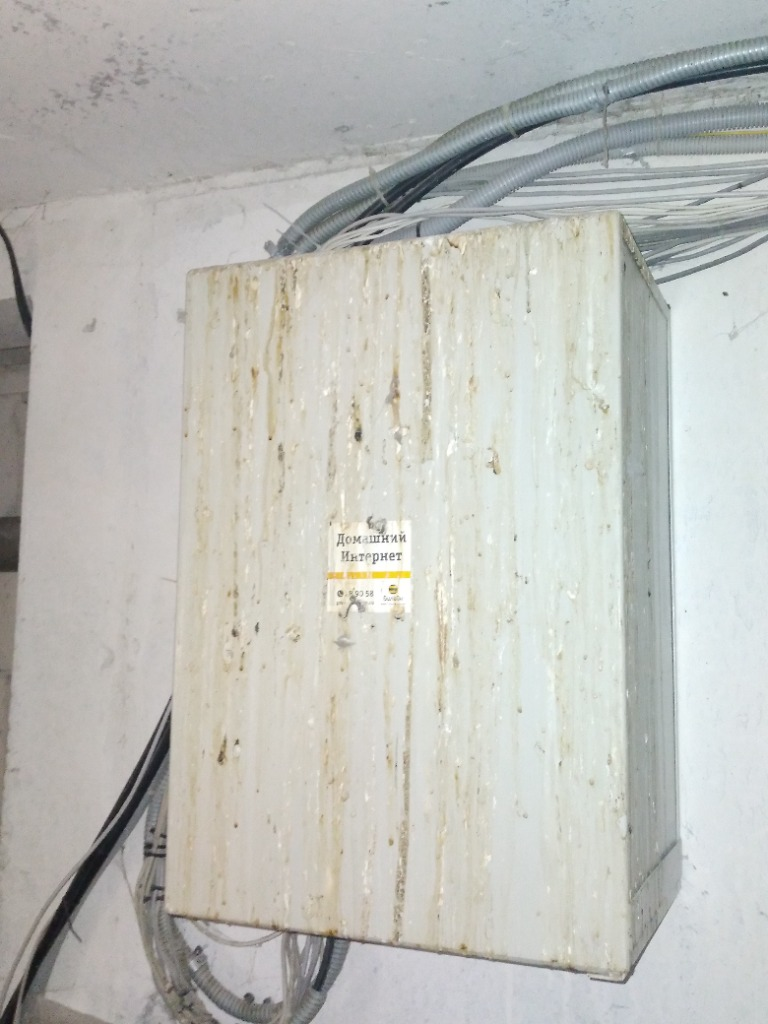sv-5: (156, 197, 687, 988)
